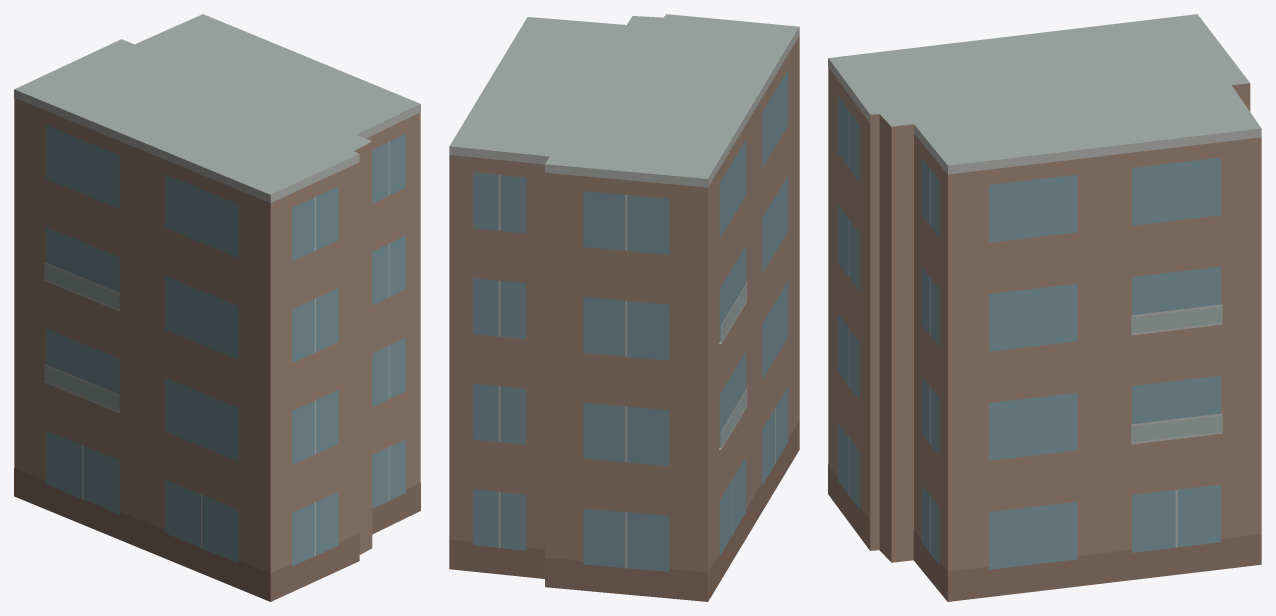
Rendered from survey-upis-32756286.glb.
3 renders of one model, left to right at view 1: azimuth 30°, elevation 25°; view 2: azimuth 150°, elevation 25°; view 3: azimuth 270°, elevation 25°, orthographic. The views are drawn at different scales.
Visible parts, largest first — view 1: survey-upis-32756286.tmp; view 2: survey-upis-32756286.tmp; view 3: survey-upis-32756286.tmp.
Boxes of the visible parts, box(x1,y1,x2,y2) form: survey-upis-32756286.tmp: box(14, 14, 420, 601); survey-upis-32756286.tmp: box(449, 14, 799, 601); survey-upis-32756286.tmp: box(828, 14, 1261, 601).
Bounding box in the file's own units: 9.04 × 12.1 × 10.91.
